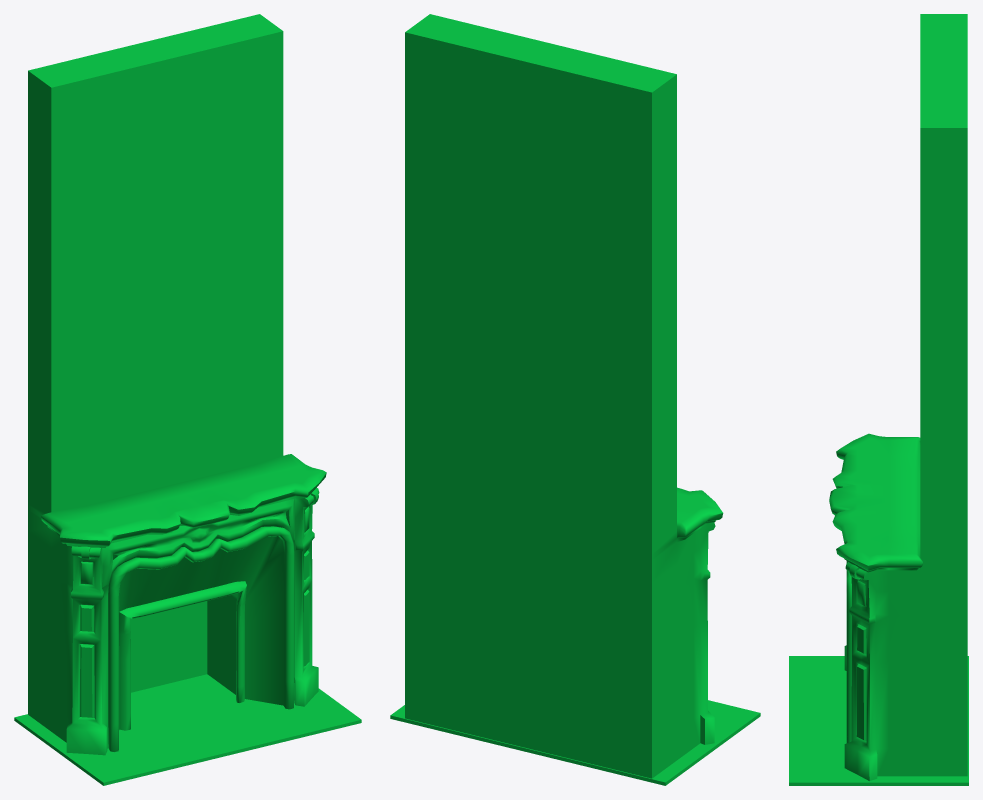
The model's file is cheminee_lowp 1.fbx.
3 renders of one model, left to right at view 1: azimuth 30°, elevation 25°; view 2: azimuth 150°, elevation 25°; view 3: azimuth 270°, elevation 25°, orthographic. The views are drawn at different scales.
Visible parts, largest first — view 1: Cube_1; view 2: Cube_1; view 3: Cube_1.
Boxes of the visible parts, x1,y1,x2,y2 form: Cube_1: (14, 14, 361, 785); Cube_1: (390, 14, 760, 785); Cube_1: (789, 14, 968, 785).
Size of the model in its own units: 67.91 by 158 by 39.37.
